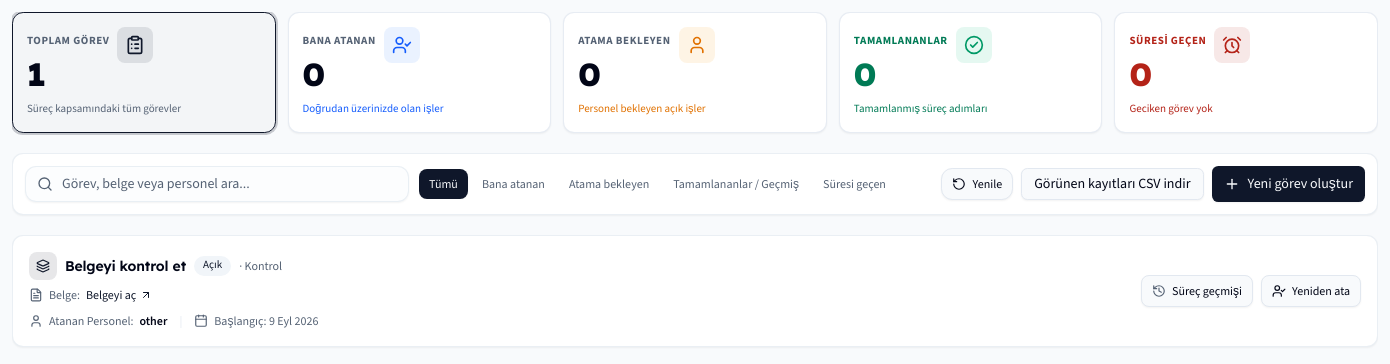
Test: shows assignment ownership and does not offer another person's completion
The width and height of the screenshot is (1390, 364).
Expected: the text "other" is shown, [140, 312, 167, 330]
Click the button "Bana atanan" at (513,184), box [472, 168, 555, 198]
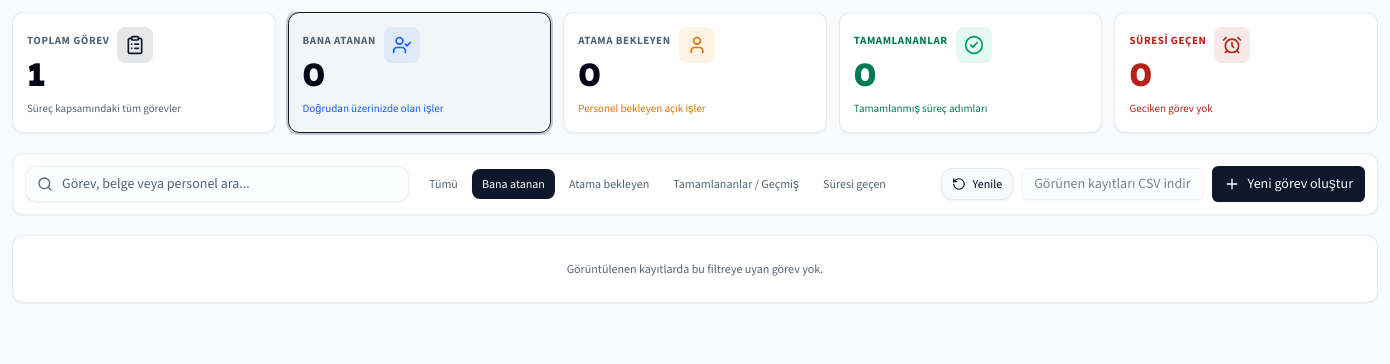
Result: the message shows "görev yok" at [567, 260, 823, 276]
